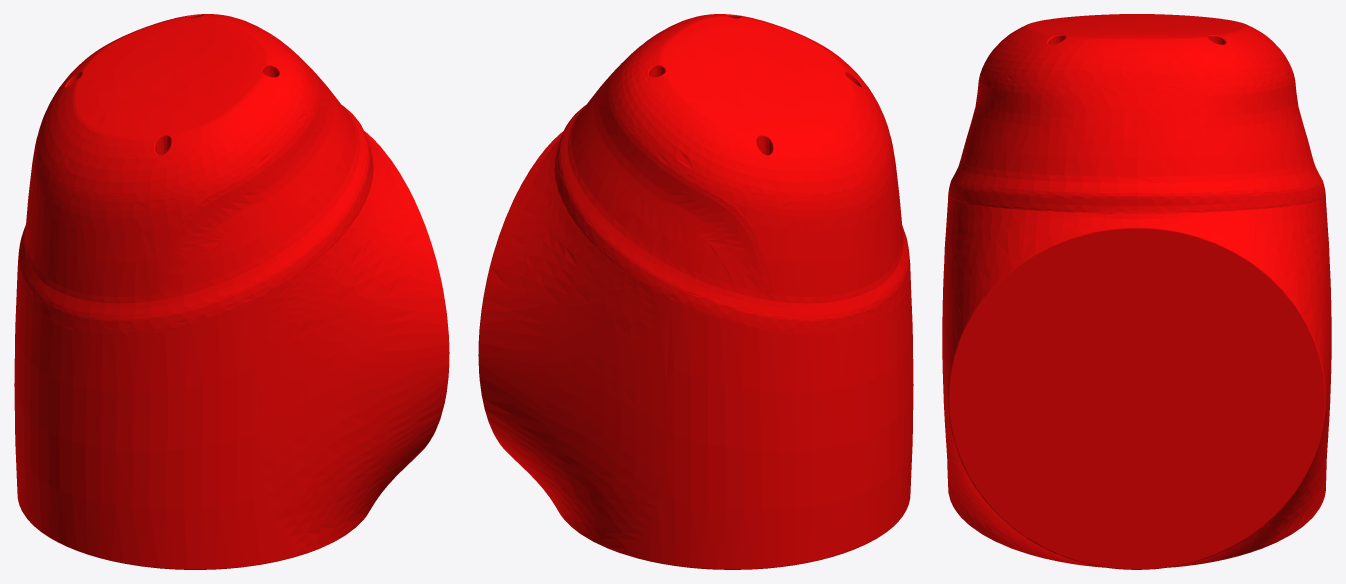
3 views of the same model, side by side, from view 1: azimuth 30°, elevation 25°; view 2: azimuth 150°, elevation 25°; view 3: azimuth 270°, elevation 25° (orthographic). The views are drawn at different scales.
Parts seen in each view (by area): view 1: A0912_2_1; view 2: A0912_2_1; view 3: A0912_2_1.
Part boxes in pixels (x1=…): A0912_2_1: x1=14, y1=14, x2=449, y2=569; A0912_2_1: x1=478, y1=14, x2=913, y2=569; A0912_2_1: x1=942, y1=14, x2=1331, y2=569.
Size of the model in its own units: 163 by 161 by 217.
